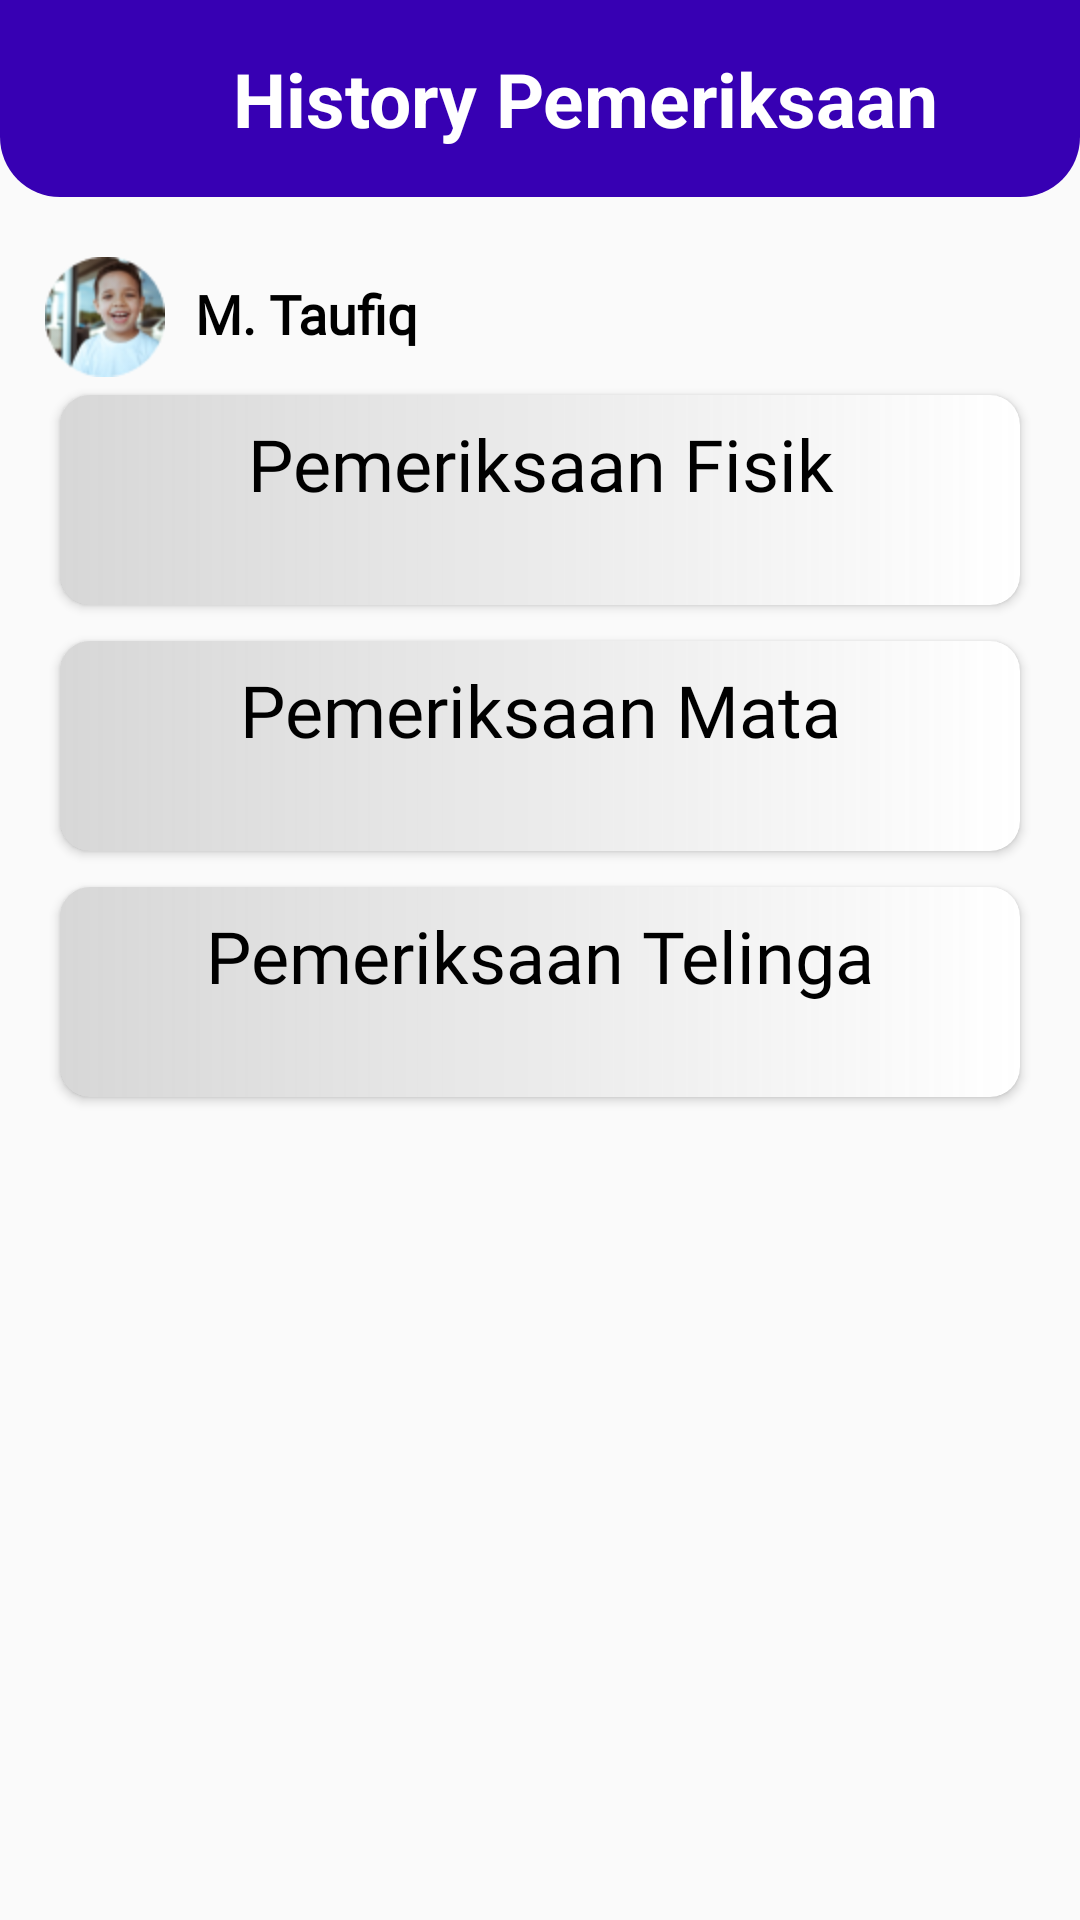

Icon click points for this 1080x1920 phone screenshot, format point (x, y):
profile: point (105, 317)
